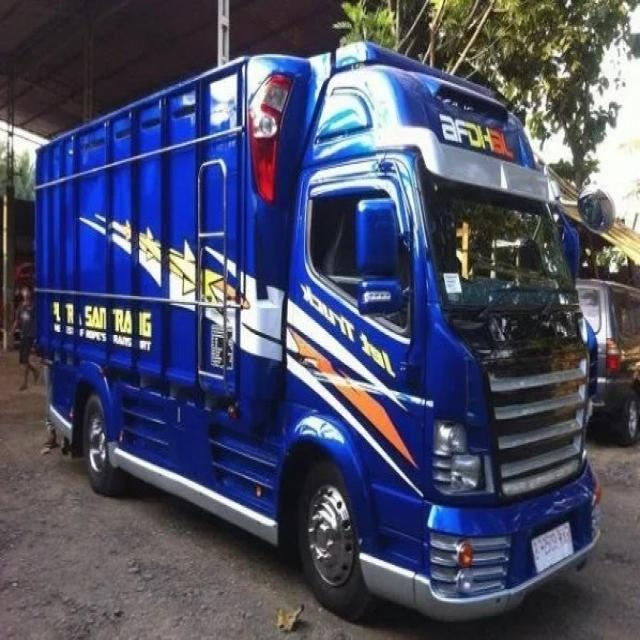truck: (36, 39, 600, 613)
